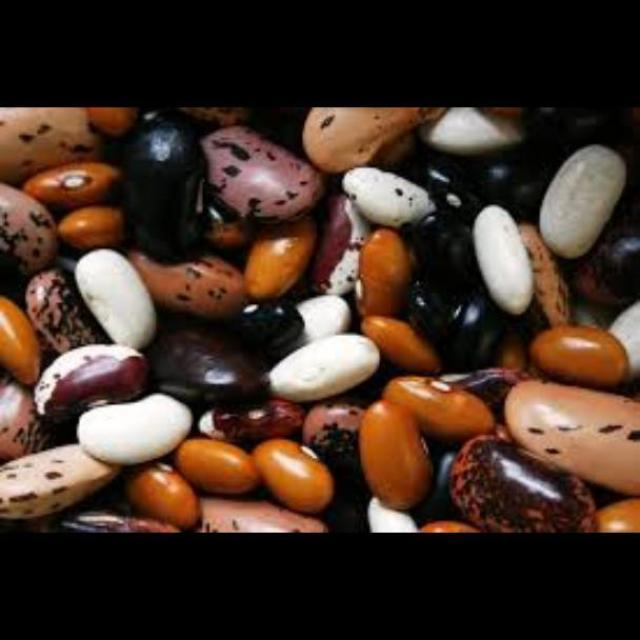beans: (0, 109, 640, 532)
